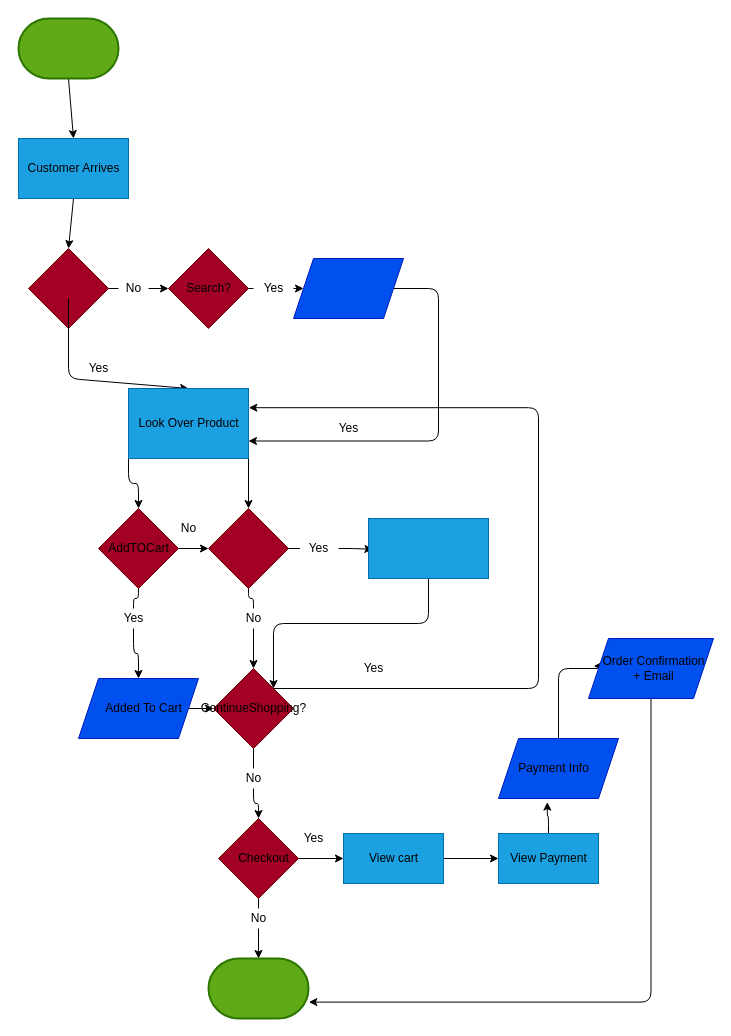
Some shapes in this 731 by 1036 pixel diagram are drawn without their labels. The box of each missing label's shape, as (x1, y1, x2, y2) in pixels:
Explore?: (28, 248, 108, 328)
Leave Website: (207, 957, 309, 1019)
Product Name: (292, 258, 404, 318)
START: (17, 17, 119, 79)
View: (208, 508, 288, 588)
ViewProductWebpage: (368, 518, 488, 578)
